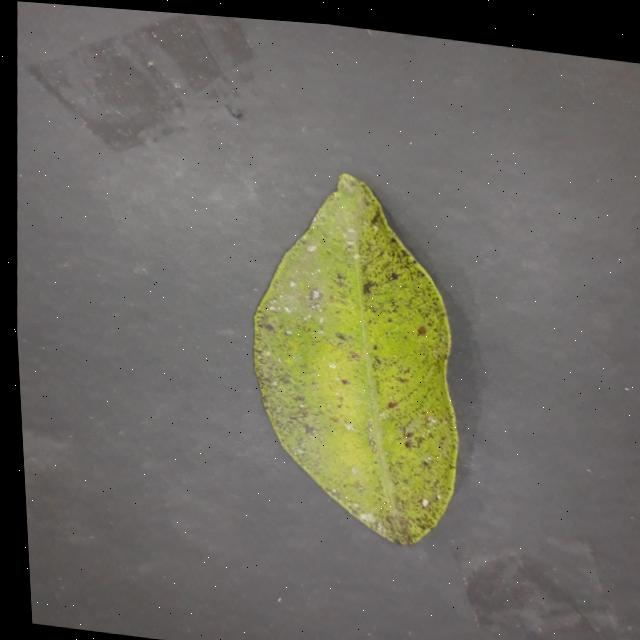greasy_spot: (253, 174, 456, 544)
